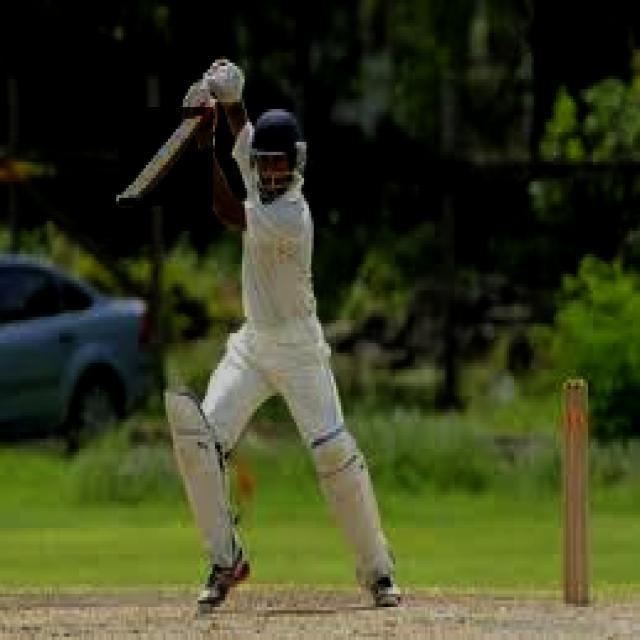bat: (110, 104, 209, 209)
toe: (110, 191, 139, 208)
